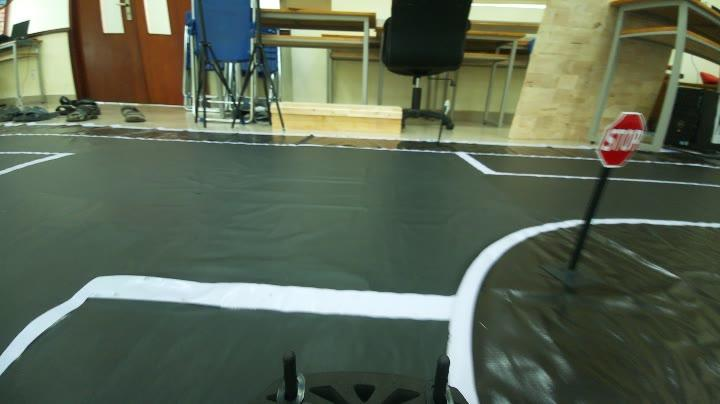stop: (592, 106, 650, 173)
